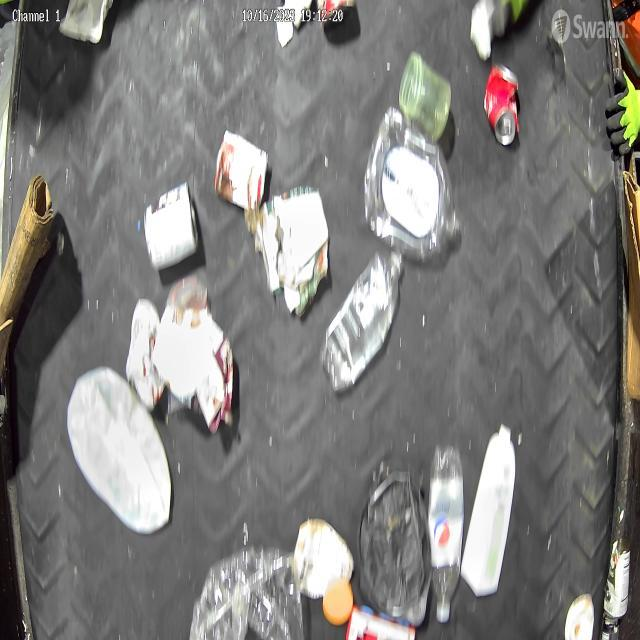can: (142, 181, 200, 273), (214, 128, 268, 212), (482, 59, 522, 150), (603, 532, 632, 620), (600, 613, 622, 640)
milk_jug: (66, 363, 174, 534)
plastic_bottle: (362, 105, 464, 264), (319, 243, 406, 395), (428, 440, 467, 626)
